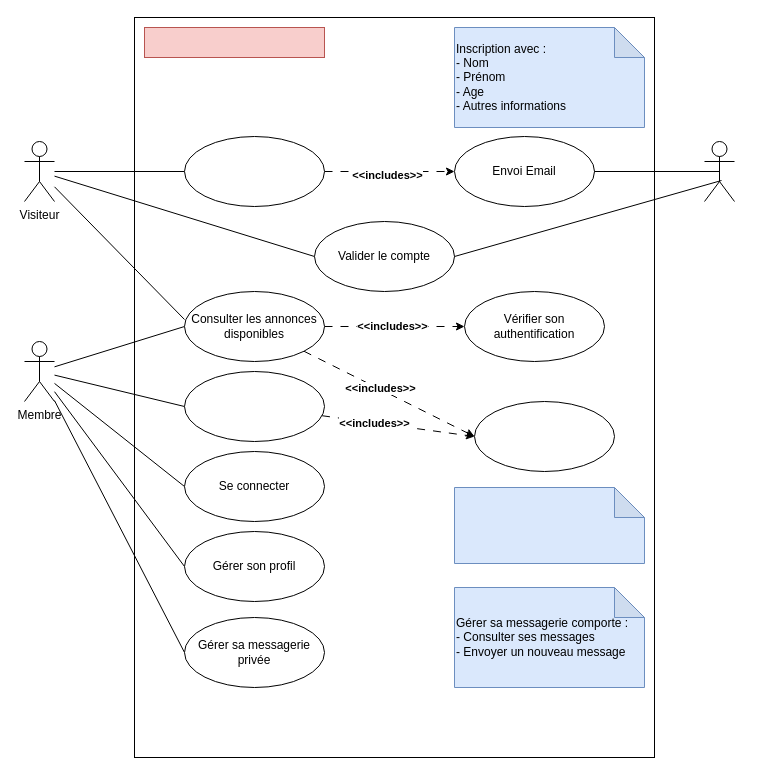
Image size: 778x775. Some labels were removed from this diagram. Each missing label, with the box of its shape:
Créer un compte: (184, 136, 324, 206)
Gérer ses annonces: (184, 370, 324, 442)
Gérer son profil comporte : - Consulter - Editer: (454, 486, 644, 564)
Site Internet Covoiturage: (144, 26, 324, 58)
Système Email <<secondary>>: (704, 140, 734, 202)
Sélectionner une date: (474, 400, 614, 472)
